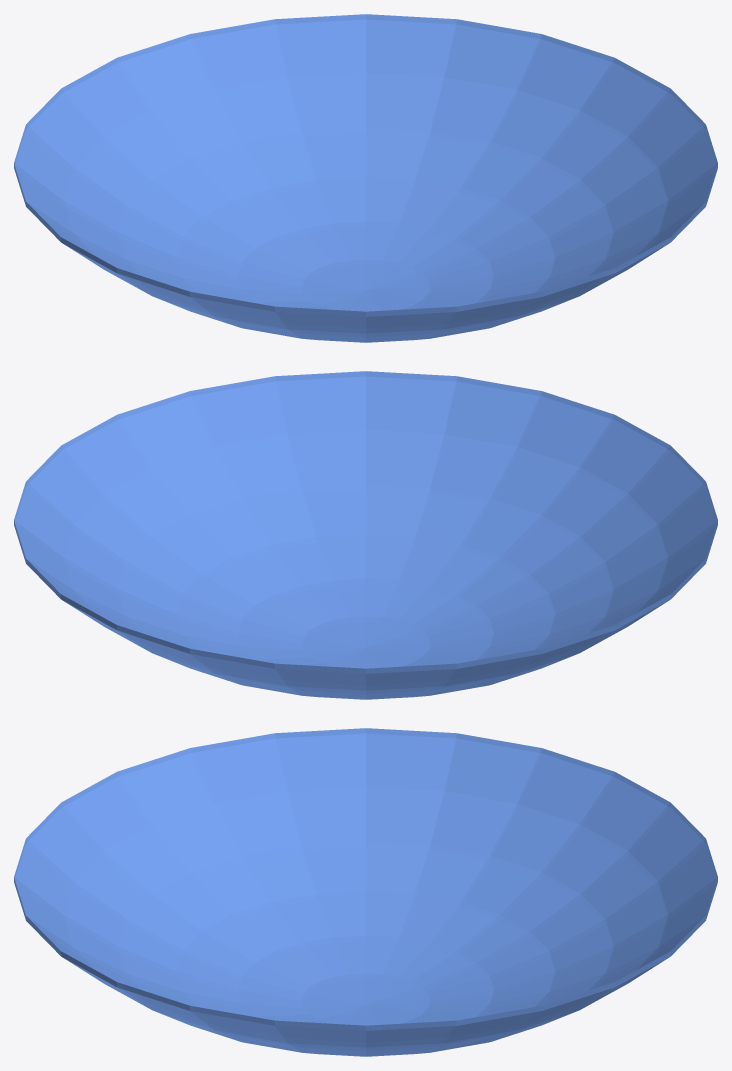
3 renders of one model, top to bottom at view 1: azimuth 30°, elevation 25°; view 2: azimuth 150°, elevation 25°; view 3: azimuth 270°, elevation 25°, orthographic.
Visible parts, largest first — view 1: mesh1_mesh1-geometry; view 2: mesh1_mesh1-geometry; view 3: mesh1_mesh1-geometry.
Boxes of the visible parts, bbox=[...] form: mesh1_mesh1-geometry: bbox=[14, 14, 717, 342]; mesh1_mesh1-geometry: bbox=[14, 371, 717, 699]; mesh1_mesh1-geometry: bbox=[14, 728, 717, 1056].
Bounding box in the file's own units: 0.6996 × 0.1457 × 0.6996.
